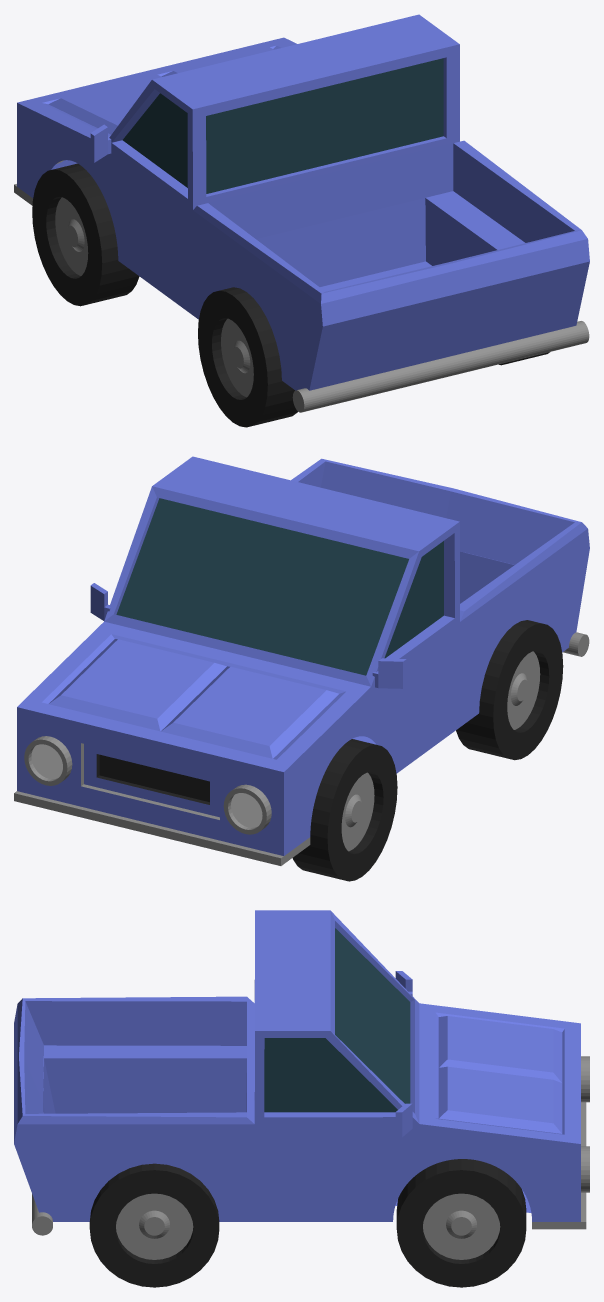
File: Blue Car.fbx
3 renders of one model, top to bottom at view 1: azimuth 30°, elevation 25°; view 2: azimuth 150°, elevation 25°; view 3: azimuth 270°, elevation 25°, orthographic. The views are drawn at different scales.
Parts seen in each view (by area): view 1: Cube, Cylinder.003, Cylinder.001, Cube.001; view 2: Cube, Cylinder.003, Cylinder.001, Cylinder.002; view 3: Cube, Cylinder.003, Cylinder.001, Cylinder.002, Cube.001.
Boxes of the visible parts, left/top/right/bottom form: Cube: left=14, top=14, right=589, bottom=390; Cylinder.003: left=32, top=163, right=139, bottom=306; Cylinder.001: left=198, top=287, right=549, bottom=427; Cube.001: left=292, top=321, right=589, bottom=412; Cube: left=14, top=456, right=589, bottom=865; Cylinder.003: left=292, top=739, right=397, bottom=881; Cylinder.001: left=456, top=620, right=563, bottom=760; Cylinder.002: left=24, top=736, right=271, bottom=834; Cube: left=14, top=910, right=586, bottom=1229; Cylinder.003: left=396, top=1159, right=526, bottom=1287; Cylinder.001: left=89, top=1163, right=219, bottom=1287; Cylinder.002: left=581, top=1056, right=589, bottom=1192; Cube.001: left=32, top=1194, right=52, bottom=1235.
Size of the model in its own units: 124 by 103 by 214.
